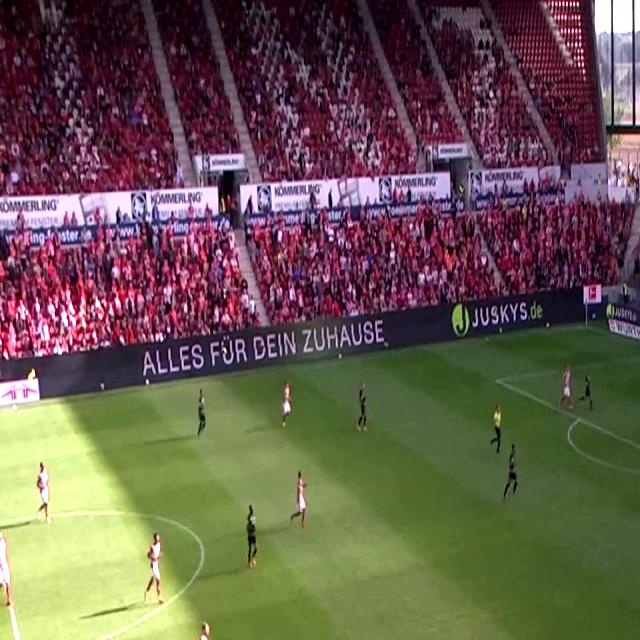referee: (482, 404, 505, 458)
soccer-player: (140, 528, 172, 611), (237, 499, 263, 574), (498, 442, 526, 507), (28, 462, 54, 530), (286, 467, 313, 530), (0, 528, 16, 616), (352, 381, 376, 439), (558, 366, 583, 420), (278, 381, 297, 431), (195, 384, 212, 438), (139, 348, 156, 390), (186, 620, 221, 640), (638, 445, 640, 513)
